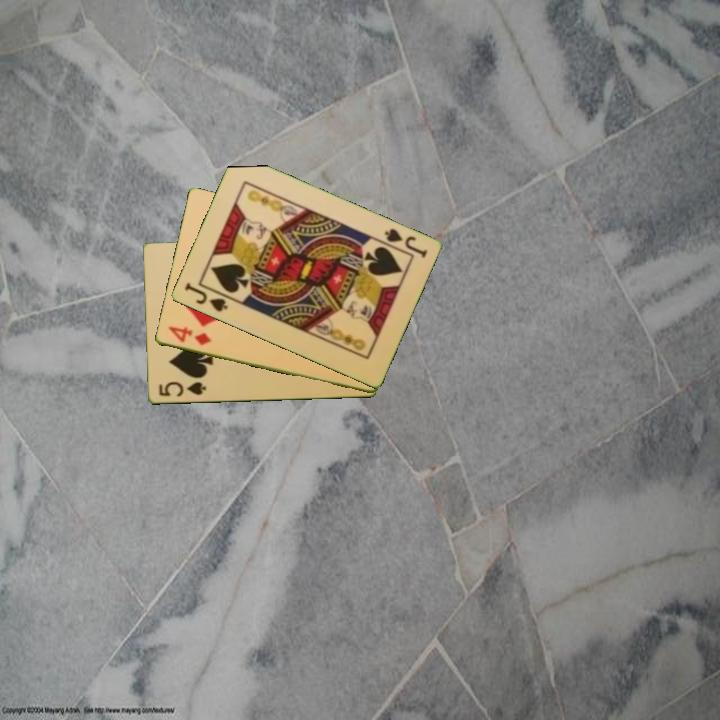4d: (164, 323, 214, 349)
5s: (155, 378, 208, 399)
Js: (181, 279, 231, 315), (380, 225, 430, 261)
